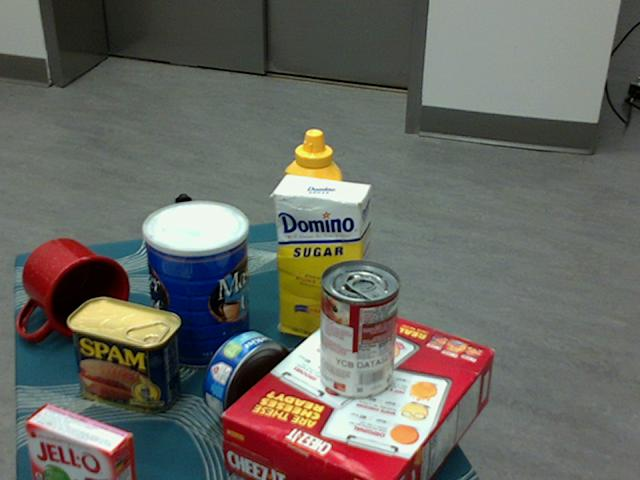cracker_box: (221, 303, 494, 479)
gelatin_box: (24, 401, 134, 479)
large_marker: (175, 193, 195, 291)
master_chef_can: (142, 201, 249, 370)
mug: (20, 237, 129, 340)
mustard_bottle: (282, 129, 341, 304)
potted_meat_can: (66, 295, 180, 412)
sugar_box: (273, 173, 371, 349)
tomato_soup_can: (317, 261, 399, 400)
tuna_fish_can: (203, 331, 292, 429)
